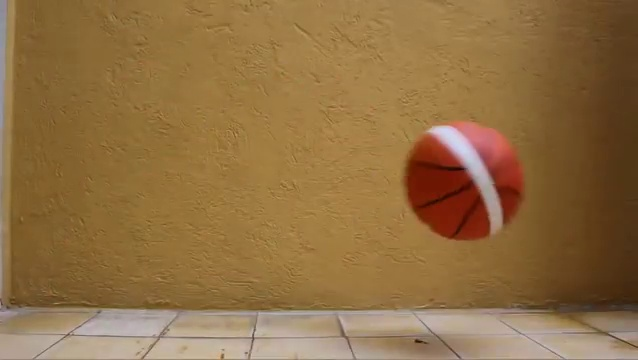ball: (403, 121, 524, 240)
